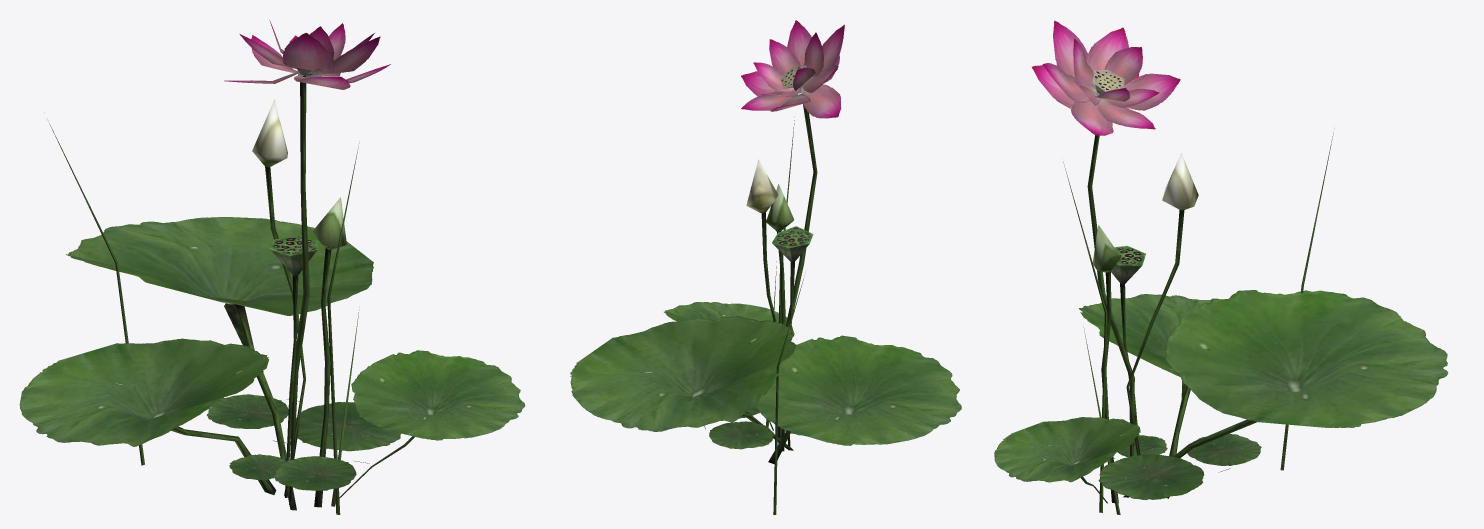
File: wm_灌木荷花01.fbx
3 views of the same model, side by side, from view 1: azimuth 30°, elevation 25°; view 2: azimuth 150°, elevation 25°; view 3: azimuth 270°, elevation 25° (orthographic). The views are drawn at different scales.
Parts seen in each view (by area): view 1: wm_灌木荷花01; view 2: wm_灌木荷花01; view 3: wm_灌木荷花01.
Part boxes in pixels (bbox=[...]): wm_灌木荷花01: bbox=[19, 20, 525, 514]; wm_灌木荷花01: bbox=[570, 20, 961, 514]; wm_灌木荷花01: bbox=[994, 20, 1448, 514].
Size of the model in its own units: 223 by 251 by 230.
